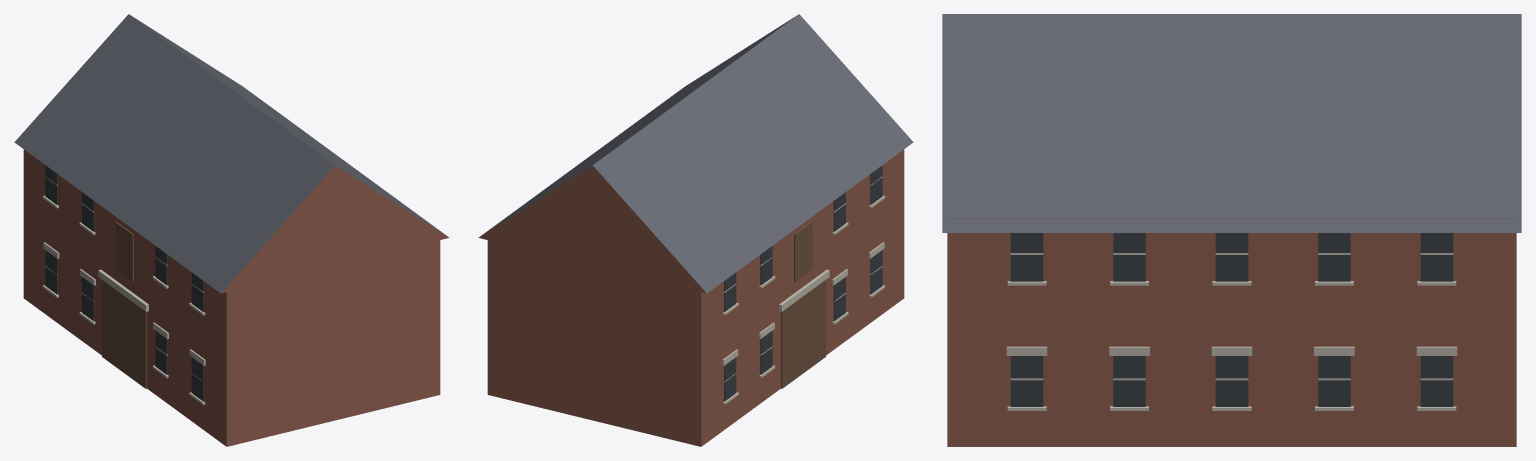
The model's file is roloson_house_2109_prairie_coach_house__draft_1904.glb.
The picture shows the model from 3 angles, left to right: view 1: azimuth 30°, elevation 25°; view 2: azimuth 150°, elevation 25°; view 3: azimuth 270°, elevation 25°; orthographic projection. The views are drawn at different scales.
Visible parts, largest first — view 1: roloson_house_2109_prairie_coach_house__draft_1904; view 2: roloson_house_2109_prairie_coach_house__draft_1904; view 3: roloson_house_2109_prairie_coach_house__draft_1904.
Part boxes in pixels (bbox=[...]): roloson_house_2109_prairie_coach_house__draft_1904: bbox=[14, 14, 449, 446]; roloson_house_2109_prairie_coach_house__draft_1904: bbox=[478, 14, 913, 446]; roloson_house_2109_prairie_coach_house__draft_1904: bbox=[942, 14, 1521, 446].
Bounding box in the file's own units: 9.1 × 9.77 × 14.24.
